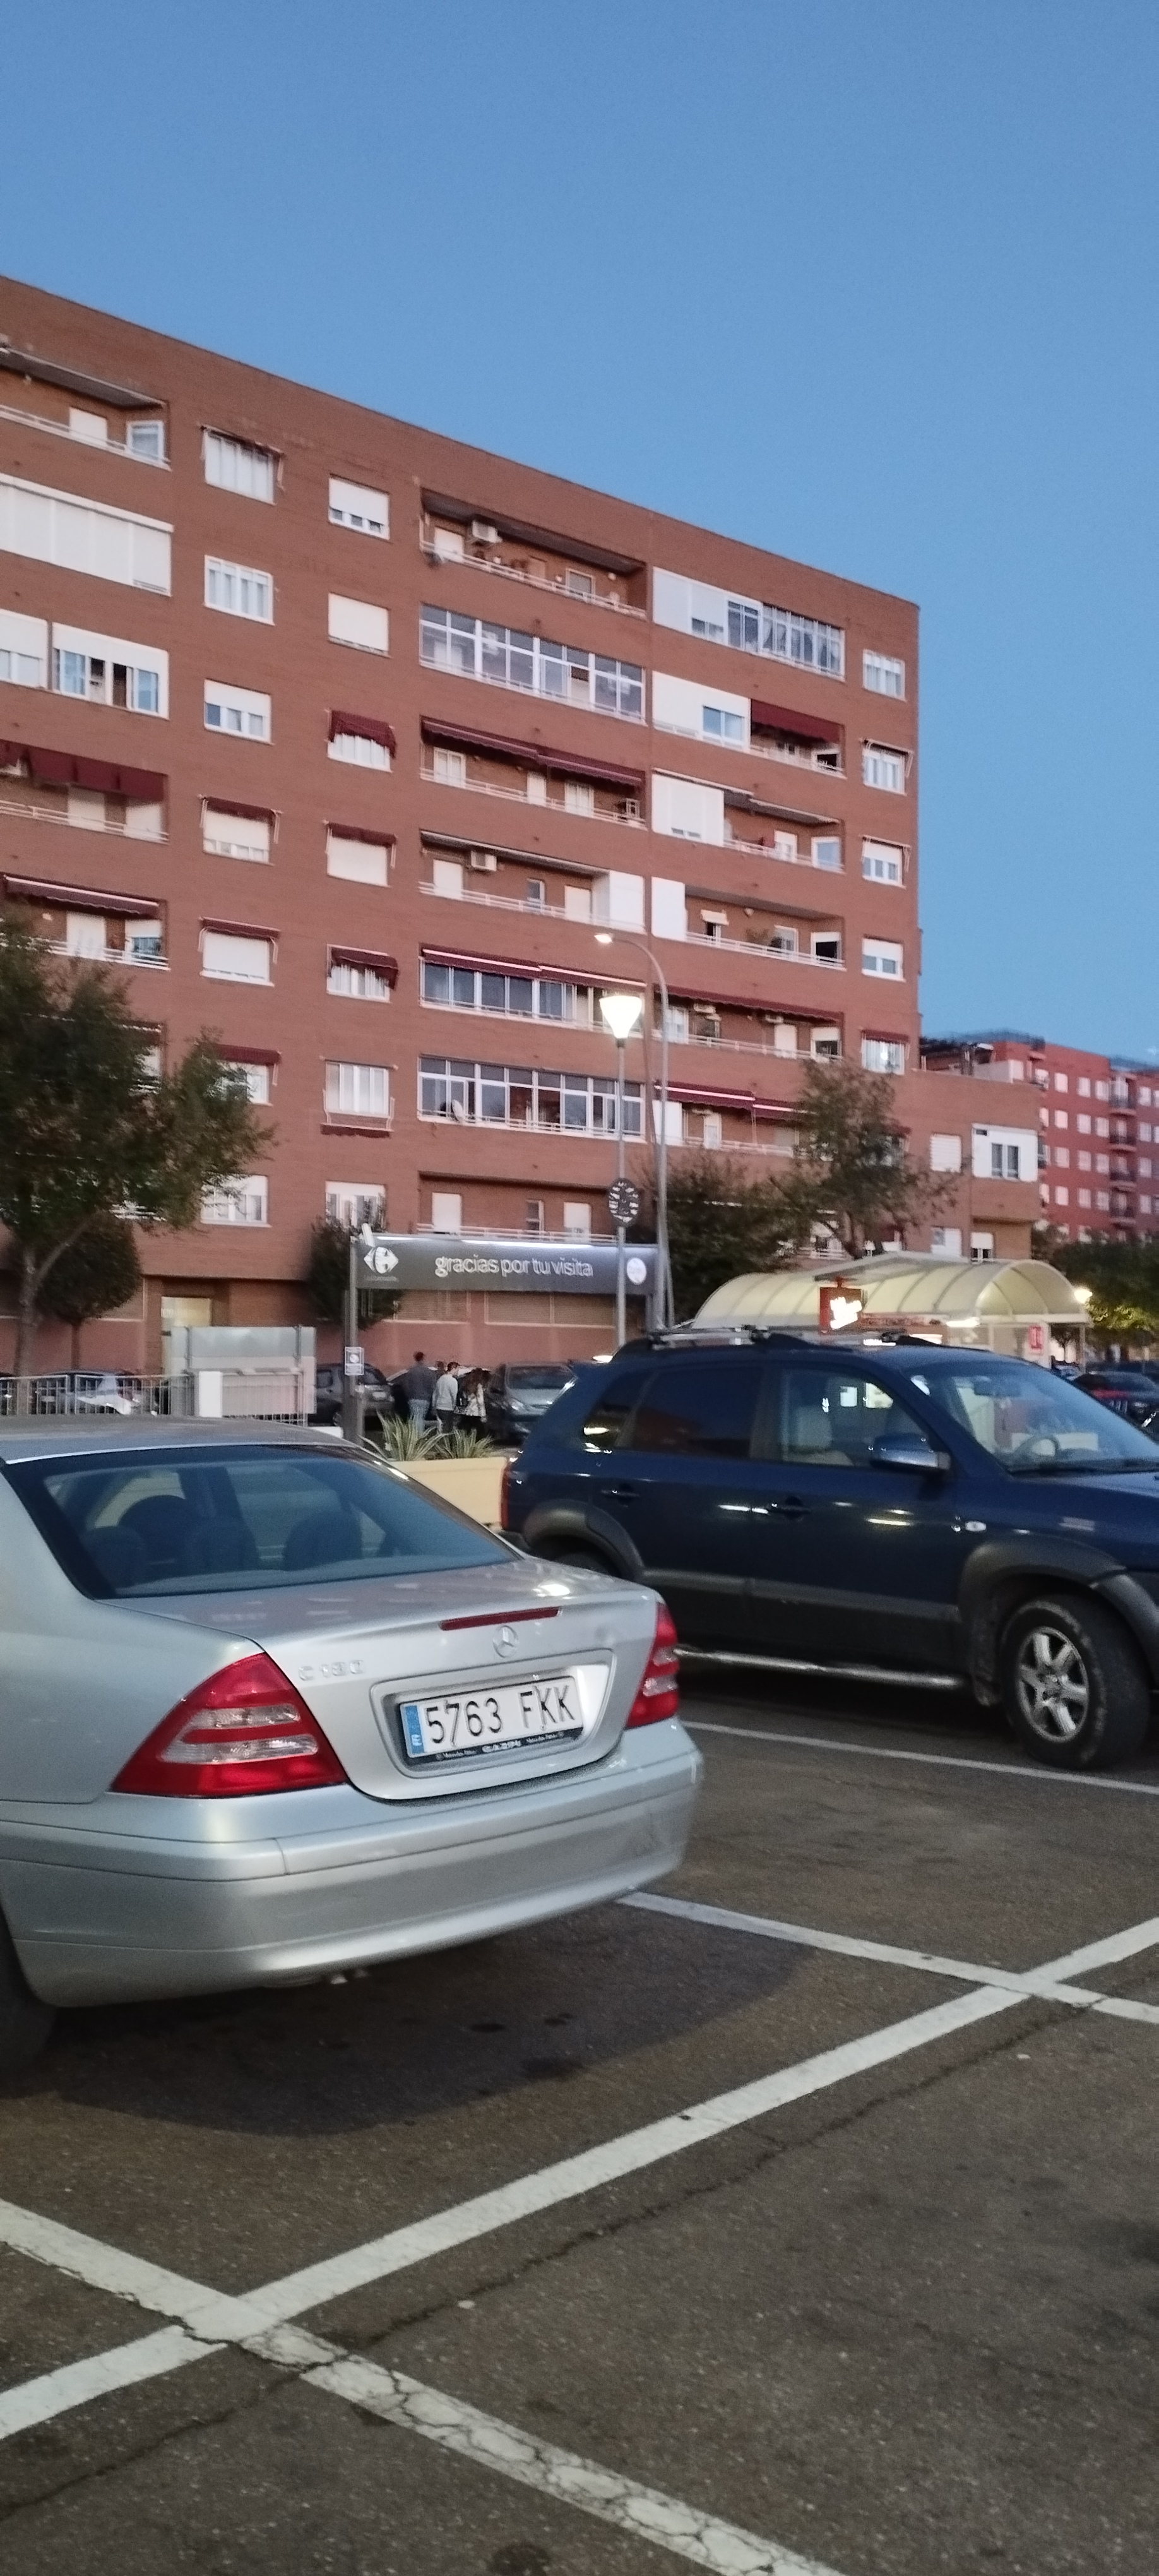Car: (0, 1418, 704, 2020)
Plate: (396, 1705, 589, 1762)
